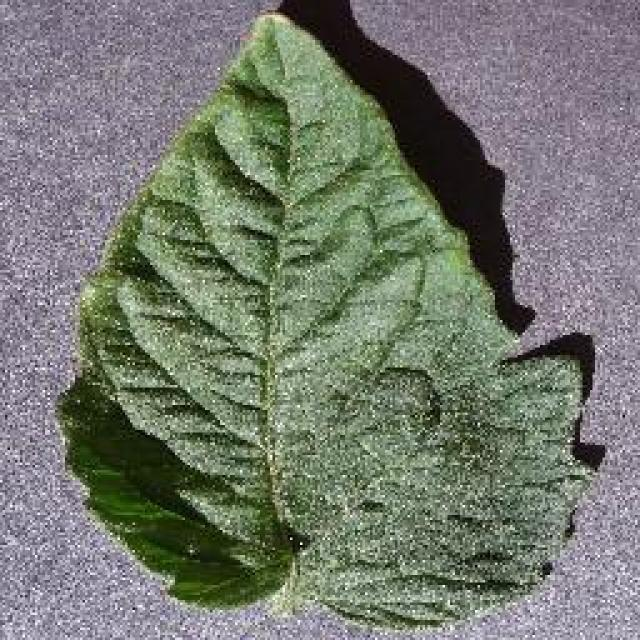Healthy: (57, 0, 615, 640)
